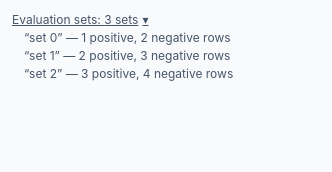
Test: SetList › starts expanded for three or fewer sets, and can still be collapsed
The image size is (332, 172).
Expected: the number of list items is 3, [24,30,230,45]; [24,48,230,63]; [24,66,233,81]
Click the button with test id "set-list-toggle": click(80, 20) [12,12,148,28]
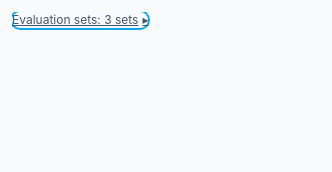
Result: the button with test id "set-list-toggle" is collapsed at [12,12,148,28]
Result: the list item "“set 0” — 1 positive, 2 negative rows" is gone
